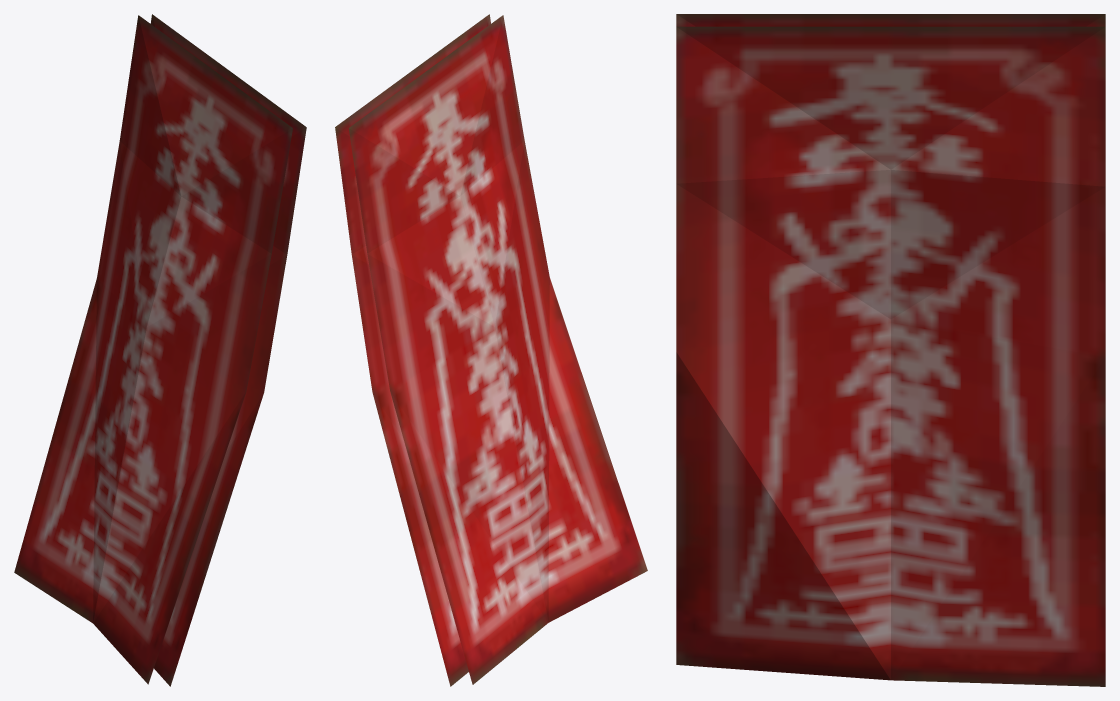
The model's file is Chameleon_cTalisman_chineseTalisman2.obj.
3 renders of one model, left to right at view 1: azimuth 30°, elevation 25°; view 2: azimuth 150°, elevation 25°; view 3: azimuth 270°, elevation 25°, orthographic. The views are drawn at different scales.
Visible parts, largest first — view 1: Chameleon_cTalisman [chineseTalisman2]; view 2: Chameleon_cTalisman [chineseTalisman2]; view 3: Chameleon_cTalisman [chineseTalisman2].
Boxes of the visible parts, x1=… form: Chameleon_cTalisman [chineseTalisman2]: x1=14, y1=14, x2=306, y2=686; Chameleon_cTalisman [chineseTalisman2]: x1=335, y1=14, x2=647, y2=686; Chameleon_cTalisman [chineseTalisman2]: x1=676, y1=14, x2=1105, y2=686.
Bounding box in the file's own units: 0.0768 × 0.2478 × 0.13.
Materials: 1 (1 with a texture image).
